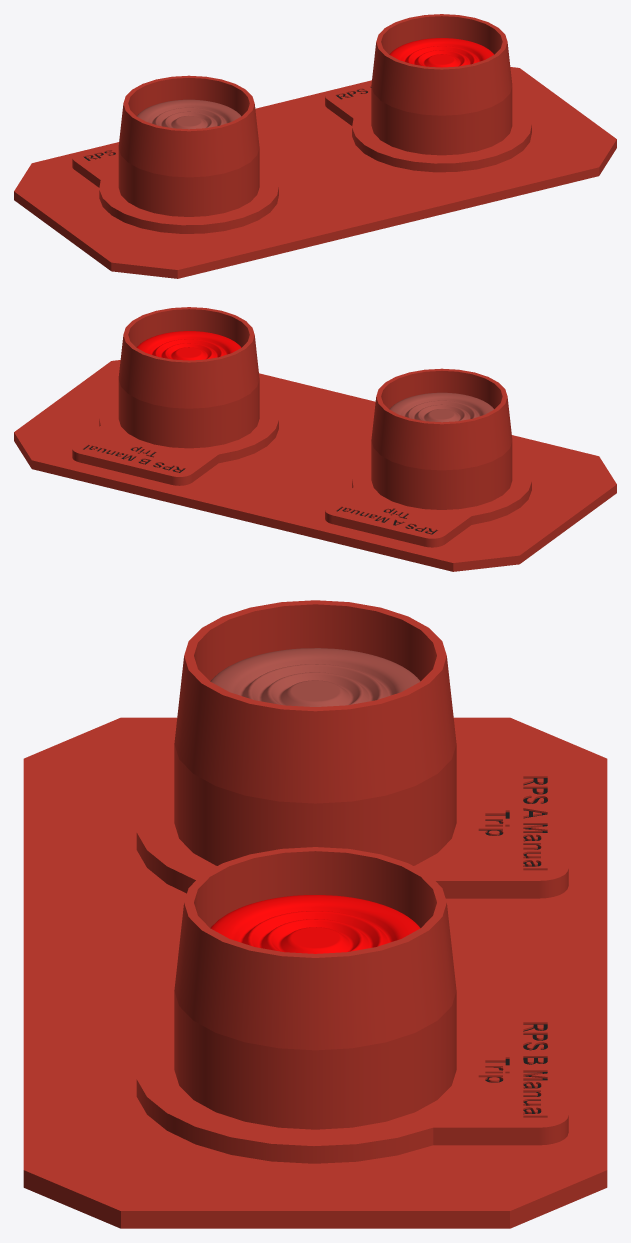
File: RPS-Man-Trip.obj
3 renders of one model, top to bottom at view 1: azimuth 30°, elevation 25°; view 2: azimuth 150°, elevation 25°; view 3: azimuth 270°, elevation 25°, orthographic. The views are drawn at different scales.
Parts seen in each view (by area): view 1: Body, RPS A Movable, RPS B Movable; view 2: Body, RPS A Movable, RPS B Movable; view 3: Body, RPS A Movable, RPS B Movable.
Part boxes in pixels (bbox=[...]): Body: bbox=[14, 14, 616, 278]; RPS A Movable: bbox=[136, 99, 241, 129]; RPS B Movable: bbox=[389, 38, 494, 67]; Body: bbox=[14, 307, 616, 571]; RPS A Movable: bbox=[389, 392, 494, 422]; RPS B Movable: bbox=[136, 331, 241, 360]; Body: bbox=[23, 600, 607, 1228]; RPS A Movable: bbox=[210, 648, 420, 706]; RPS B Movable: bbox=[210, 895, 420, 953].
Bounding box in the file's own units: 12 × 2.3 × 6.
